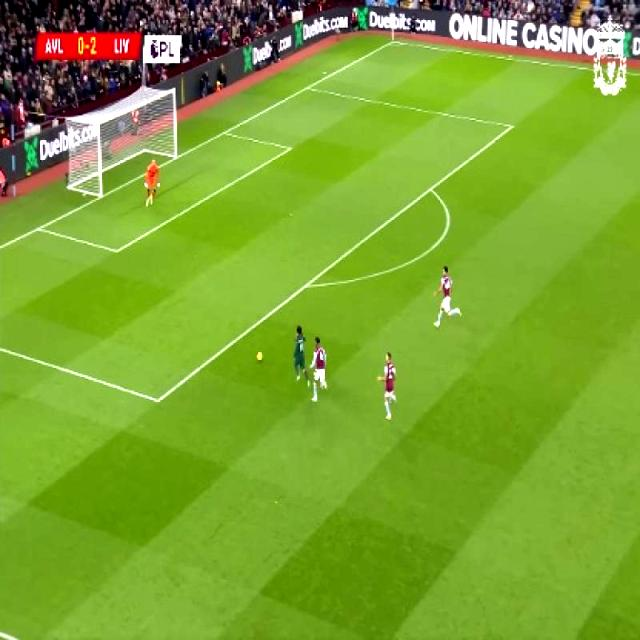bigarea_bottom_inner: (148, 386, 166, 412)
bigarea_top_inner: (504, 115, 518, 135)
bigarea_top_outter: (300, 78, 314, 95)
bottom_arc_area_intersection: (298, 274, 314, 294)
corner: (384, 34, 402, 48)
smallarea_bottom_inner: (108, 236, 124, 262)
smallarea_bottom_outter: (28, 215, 48, 240)
smallarea_top_inner: (280, 137, 297, 157)
smallarea_top_outter: (215, 122, 232, 142)
top_arc_area_intersection: (422, 178, 436, 197)
